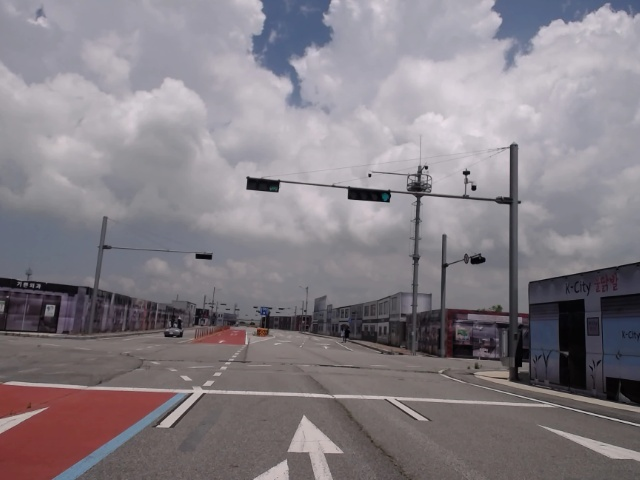straight_green_4: (347, 185, 391, 204)
